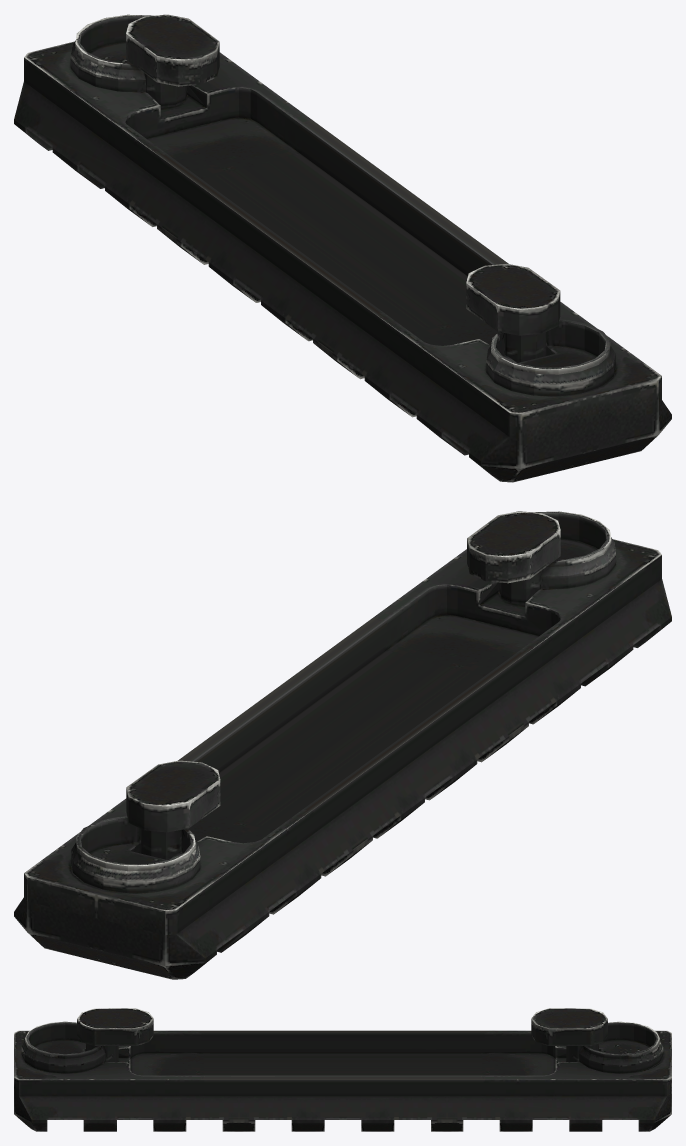
3 views of the same model, one above another, from view 1: azimuth 30°, elevation 25°; view 2: azimuth 150°, elevation 25°; view 3: azimuth 270°, elevation 25° (orthographic). The views are drawn at different scales.
Parts seen in each view (by area): view 1: TW_5b4736b986f77405cb415c10_PZ_Import; view 2: TW_5b4736b986f77405cb415c10_PZ_Import; view 3: TW_5b4736b986f77405cb415c10_PZ_Import.
Part boxes in pixels (x1,y1,x2,y2): TW_5b4736b986f77405cb415c10_PZ_Import: (14, 14, 671, 482); TW_5b4736b986f77405cb415c10_PZ_Import: (14, 511, 671, 979); TW_5b4736b986f77405cb415c10_PZ_Import: (14, 1008, 671, 1131).
Bounding box in the file's own units: 0.0123 × 0.0547 × 0.00817.
1 material, 1 textured.
